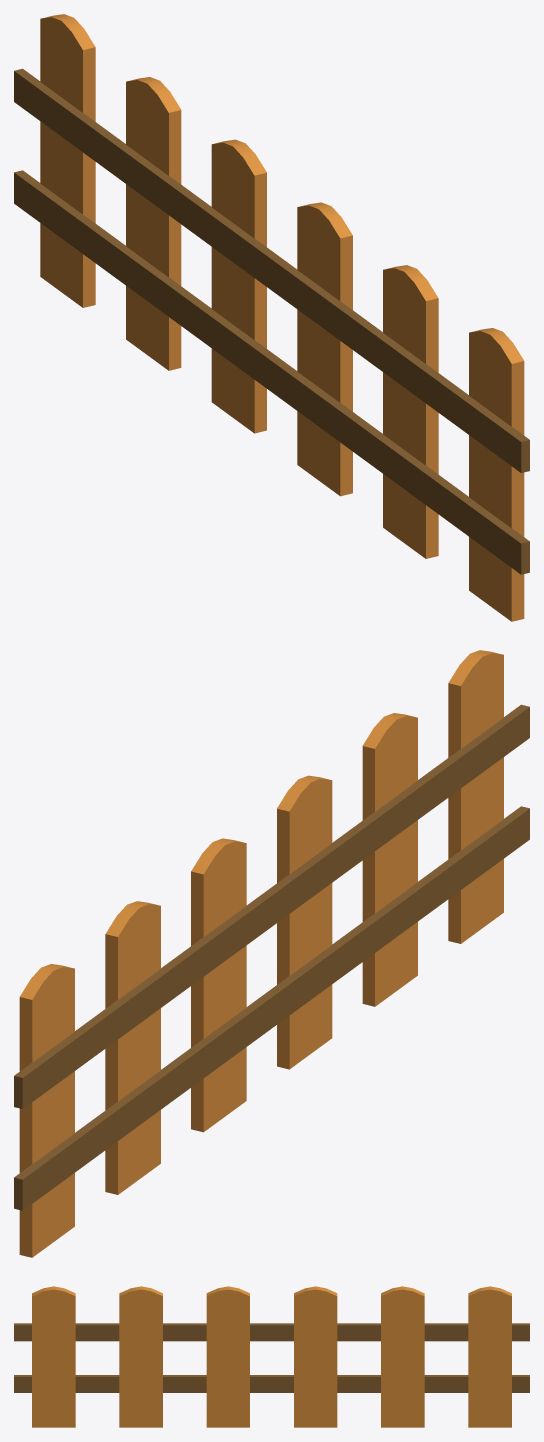
File: Fence.fbx
The picture shows the model from 3 angles, top to bottom: view 1: azimuth 30°, elevation 25°; view 2: azimuth 150°, elevation 25°; view 3: azimuth 270°, elevation 25°; orthographic projection. The views are drawn at different scales.
Parts seen in each view (by area): view 1: Plane.004; view 2: Plane.004; view 3: Plane.004.
Part boxes in pixels (<box>): Plane.004: <box>14,14,529,621</box>; Plane.004: <box>14,650,529,1257</box>; Plane.004: <box>14,1286,529,1427</box>.
Size of the model in its own units: 4.91 by 60.67 by 205.
